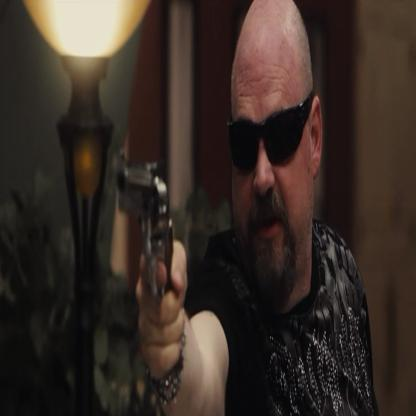gun: (114, 136, 187, 312)
